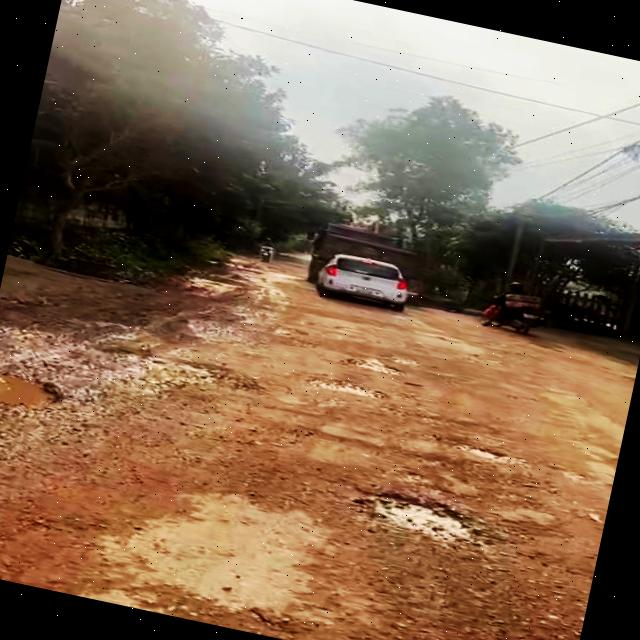pothole: (344, 479, 490, 554), (105, 346, 224, 415), (0, 363, 71, 440), (302, 369, 389, 402), (450, 438, 518, 468), (338, 352, 404, 378)
